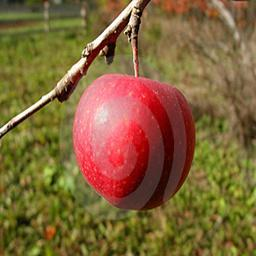apple: (70, 74, 196, 214)
